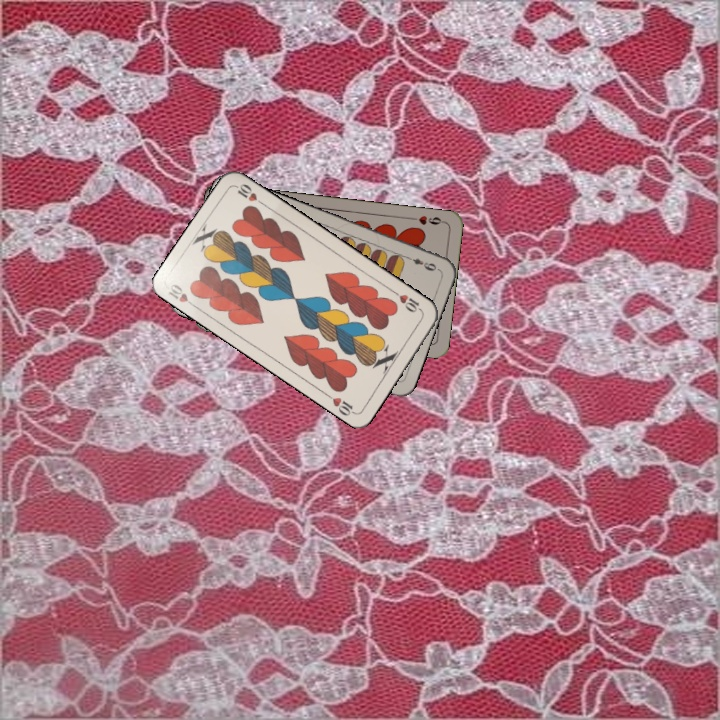E9: (402, 252, 442, 274)
H10: (164, 280, 200, 311), (389, 287, 425, 315)
H9: (407, 212, 447, 227)
